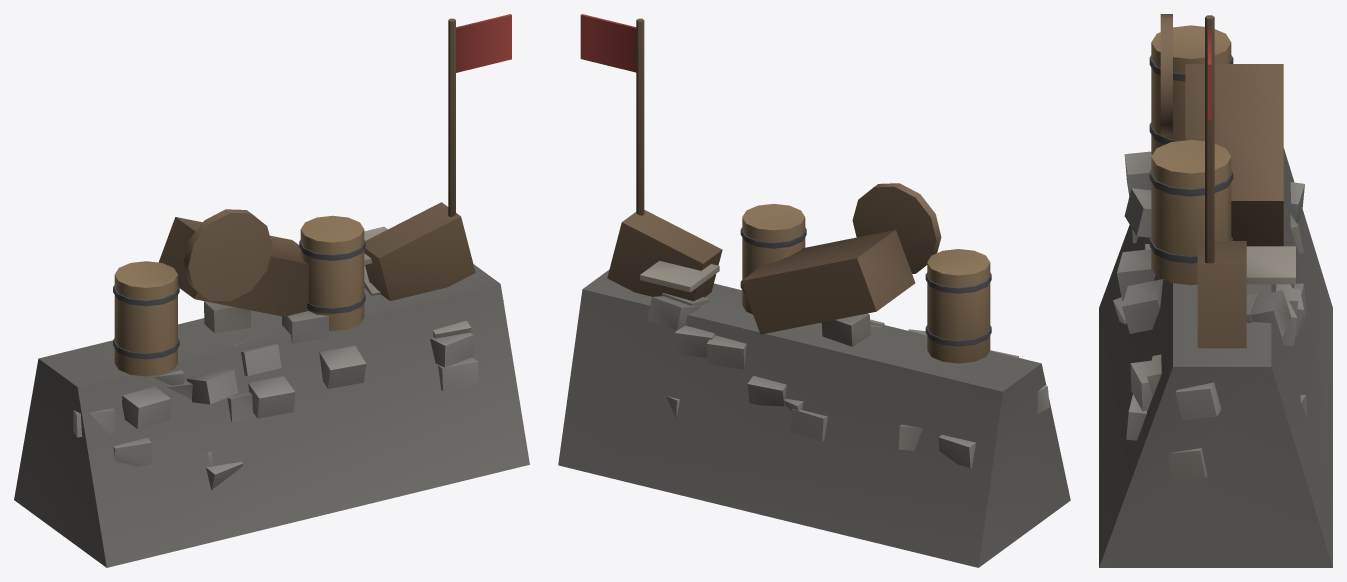
The model's file is wall_industrial.glb.
The picture shows the model from 3 angles, left to right: view 1: azimuth 30°, elevation 25°; view 2: azimuth 150°, elevation 25°; view 3: azimuth 270°, elevation 25°; orthographic projection. The views are drawn at different scales.
Parts seen in each view (by area): view 1: Body; view 2: Body; view 3: Body.
Boxes of the visible parts, x1=… form: Body: x1=14, y1=14, x2=529, y2=567; Body: x1=558, y1=14, x2=1070, y2=567; Body: x1=1099, y1=14, x2=1332, y2=567.
Size of the model in its own units: 1.07 by 0.95 by 0.38.
